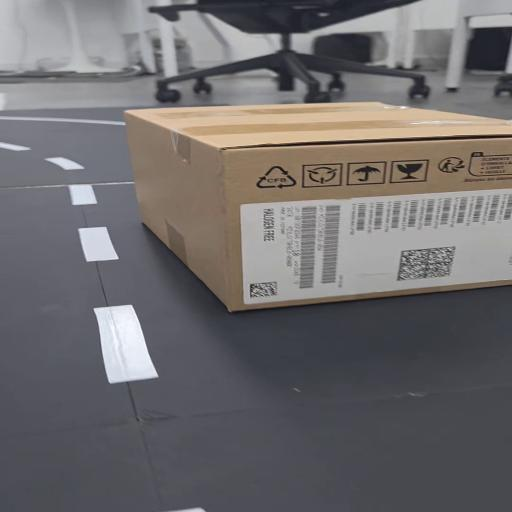Box: (129, 98, 512, 317)
